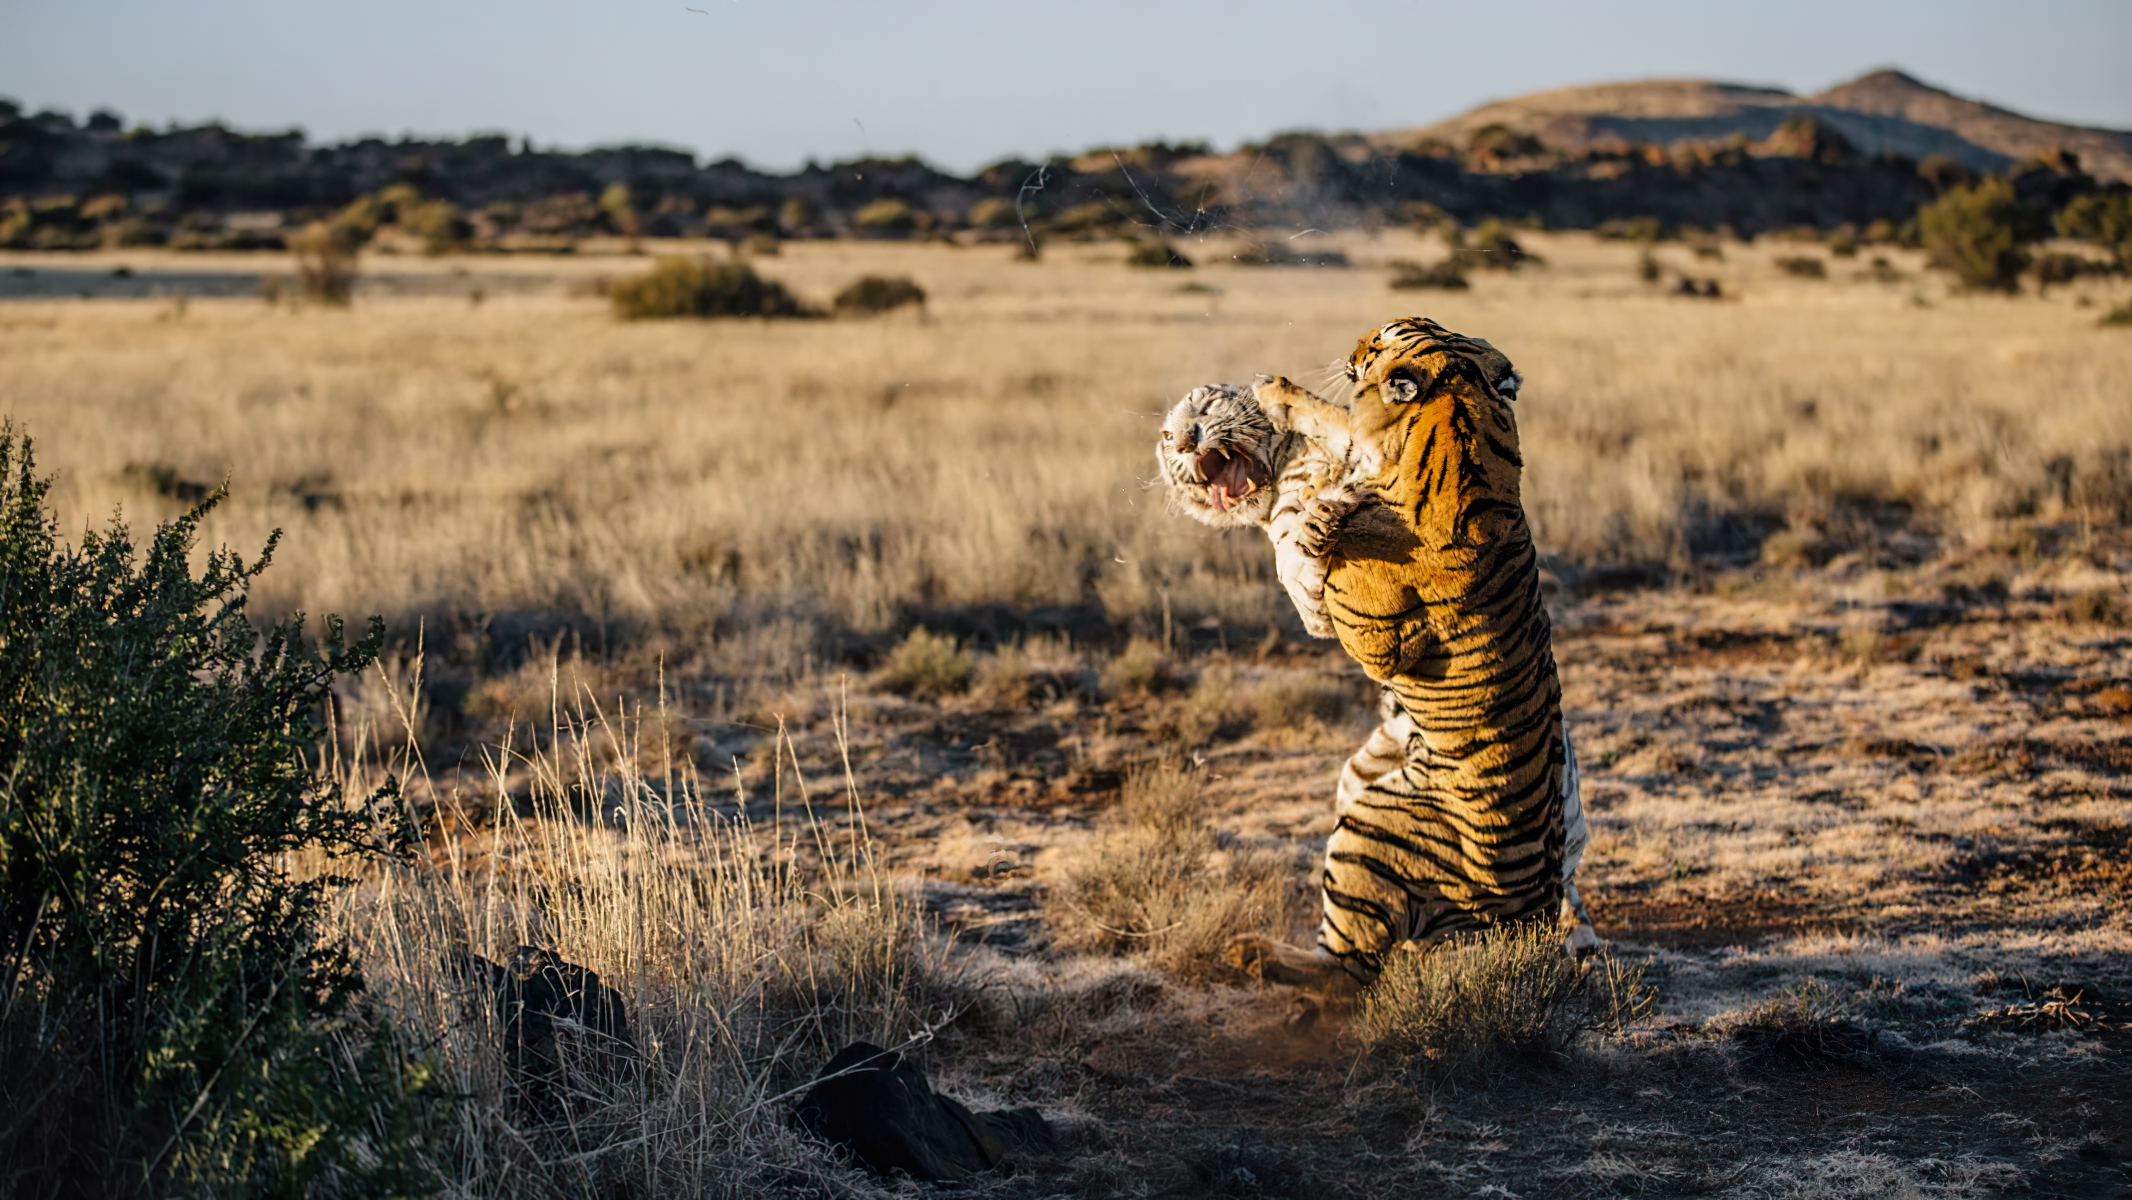tiger: (1337, 304, 1614, 980), (1125, 342, 1453, 615)
